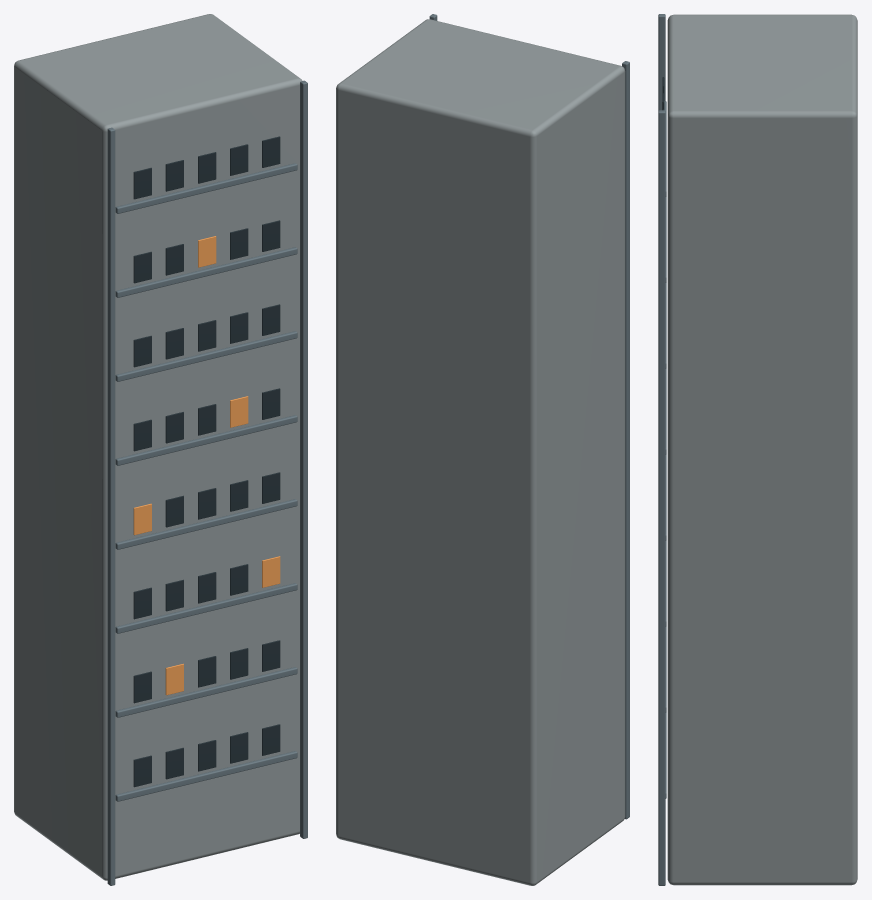
Rendered from tower.fbx.
3 renders of one model, left to right at view 1: azimuth 30°, elevation 25°; view 2: azimuth 150°, elevation 25°; view 3: azimuth 270°, elevation 25°, orthographic. The views are drawn at different scales.
Visible parts, largest first — view 1: tower; view 2: tower; view 3: tower.
Part boxes in pixels (<box>): tower: <box>14,14,307,885</box>; tower: <box>336,14,629,885</box>; tower: <box>658,14,857,885</box>.
Bounding box in the file's own units: 500 × 1800 × 420.
